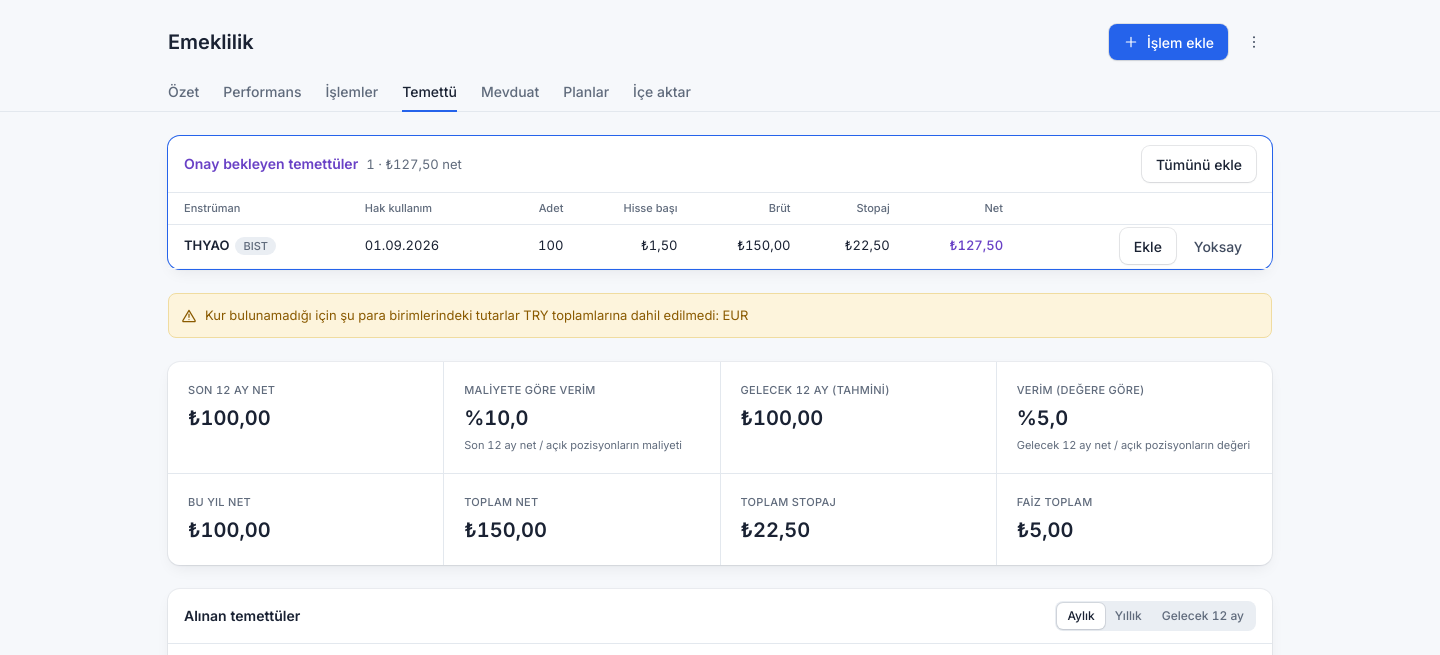
Test: shows the twelve-month forecast net and yield, and charts it
Expected: the text "EUR" is shown, [205,306,748,322]
Click the radio button labelled "Gelecek 12 ay". click: {"x": 1203, "y": 616}
box: [1152,602,1254,628]
(page scrolled)
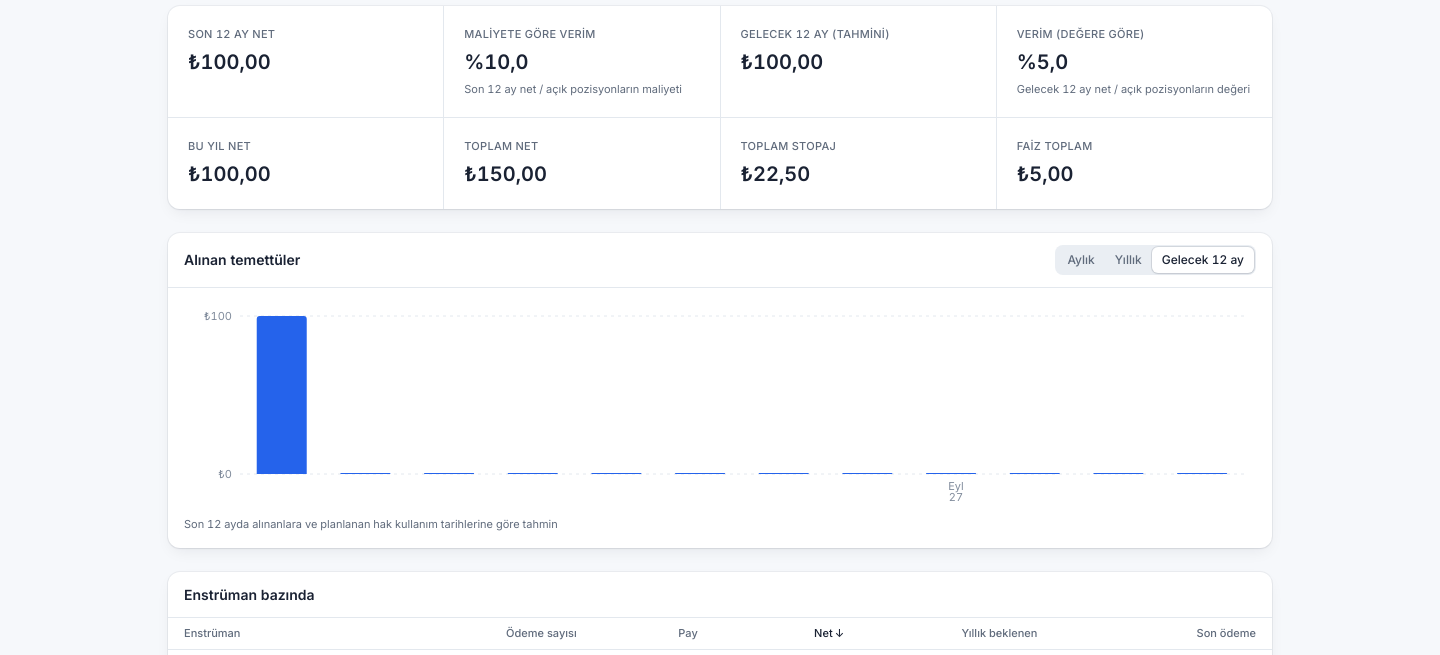
Expected: the text "Son 12 ayda alınanlara ve planlanan hak kullanım tarihlerine göre tahmin" is shown, [184,516,558,530]
